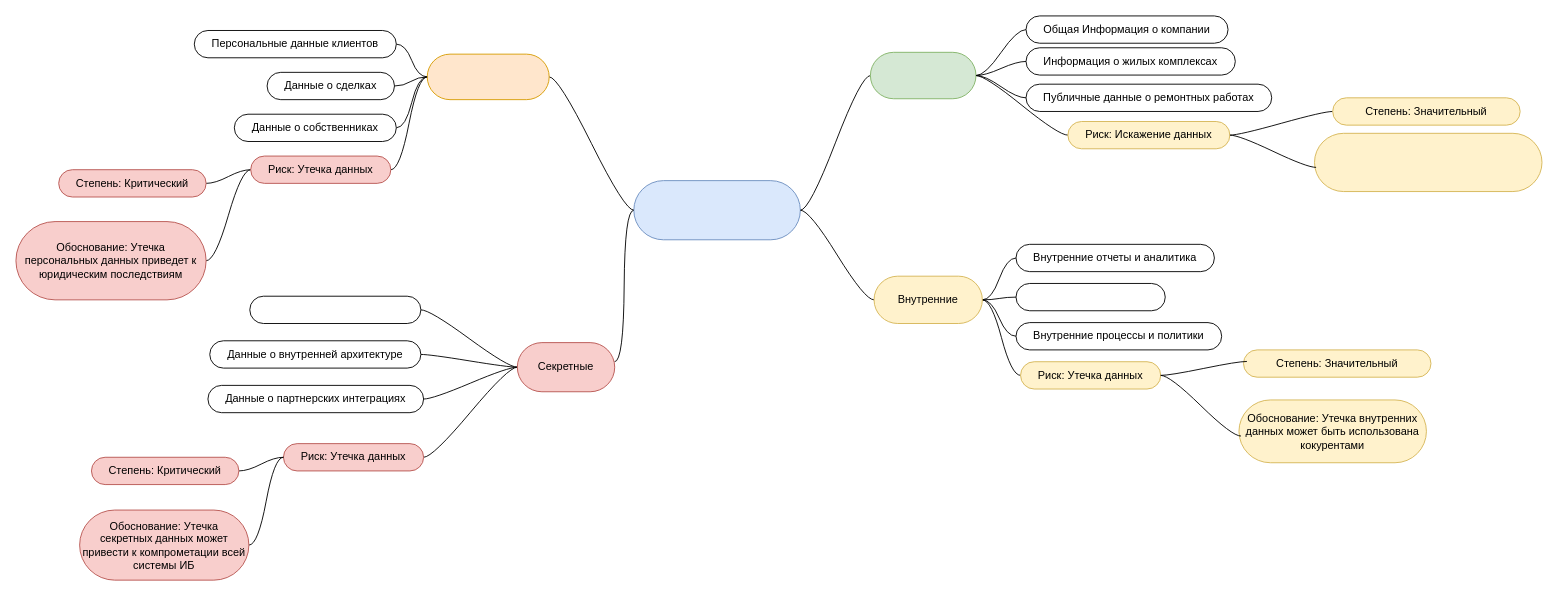
Image size: 1558x596. Some labels were removed from this diagram. Each missing label, with the centre of its shape:
Безопасность данных: the point at 716,210
Данные о сотрудниках: the point at 1090,297
Ключи доступа к системам: the point at 335,309
Конфидициальные: the point at 487,76
Обоснование: Публичные данные могут быть искажены злоумышленниками: the point at 1428,162
Публичные: the point at 923,75
